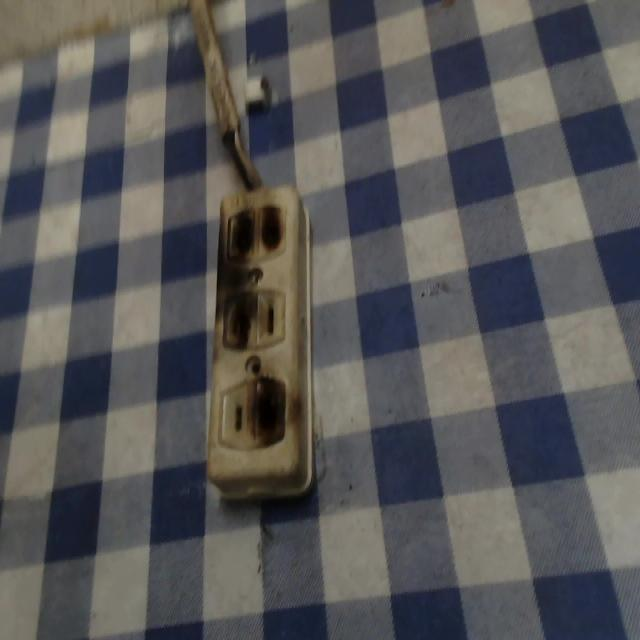-: (225, 203, 287, 260), (243, 374, 288, 446), (218, 284, 257, 351)
